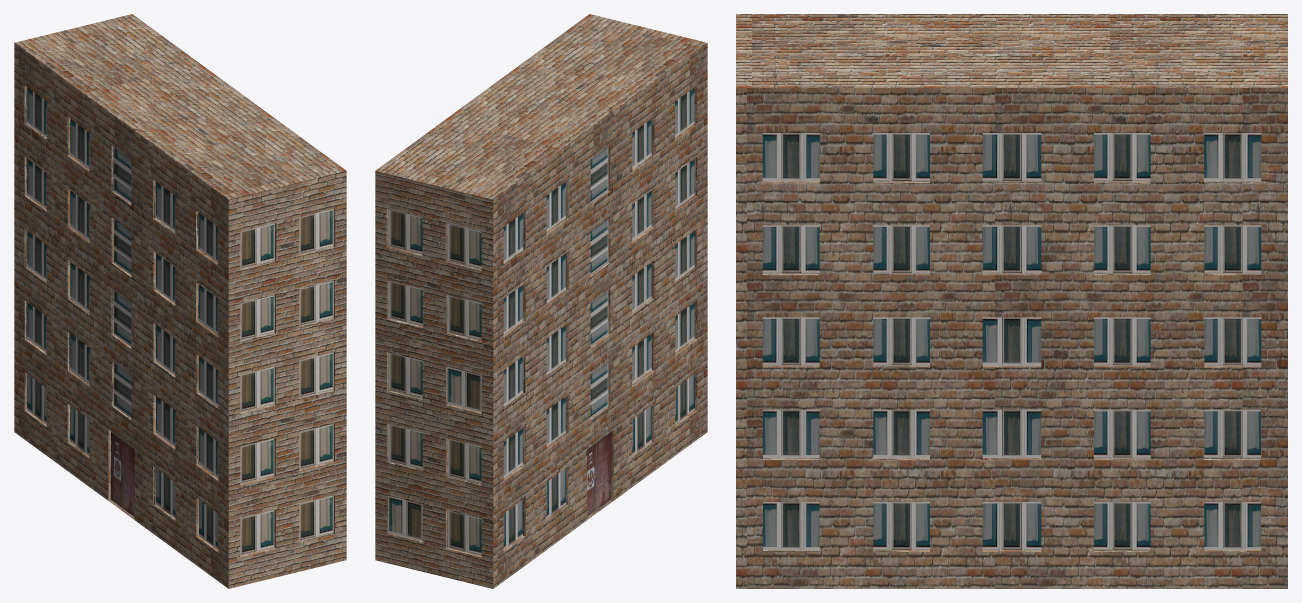
File: house2.glb
3 views of the same model, side by side, from view 1: azimuth 30°, elevation 25°; view 2: azimuth 150°, elevation 25°; view 3: azimuth 270°, elevation 25° (orthographic). The views are drawn at different scales.
Visible parts, largest first — view 1: Куб; view 2: Куб; view 3: Куб.
Part boxes in pixels (x1,y1,x2,y2): Куб: (14, 14, 346, 588); Куб: (375, 14, 707, 588); Куб: (736, 14, 1287, 588).
Size of the model in its own units: 6.02 by 18.97 by 18.94.
Materials: 3 (3 with a texture image).
